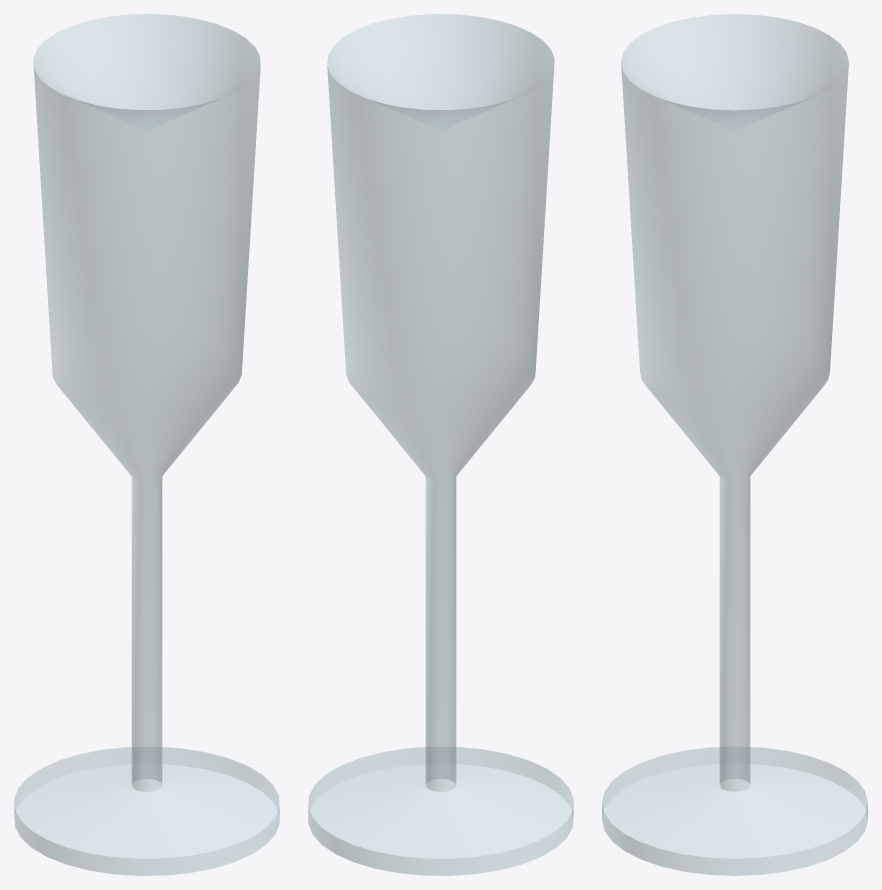
File: flute.glb
3 renders of one model, left to right at view 1: azimuth 30°, elevation 25°; view 2: azimuth 150°, elevation 25°; view 3: azimuth 270°, elevation 25°, orthographic.
Parts seen in each view (by area): view 1: flute; view 2: flute; view 3: flute.
Boxes of the visible parts, x1=… form: flute: x1=14, y1=14, x2=279, y2=875; flute: x1=308, y1=14, x2=573, y2=875; flute: x1=602, y1=14, x2=867, y2=875.
Size of the model in its own units: 0.07 by 0.22 by 0.07.
